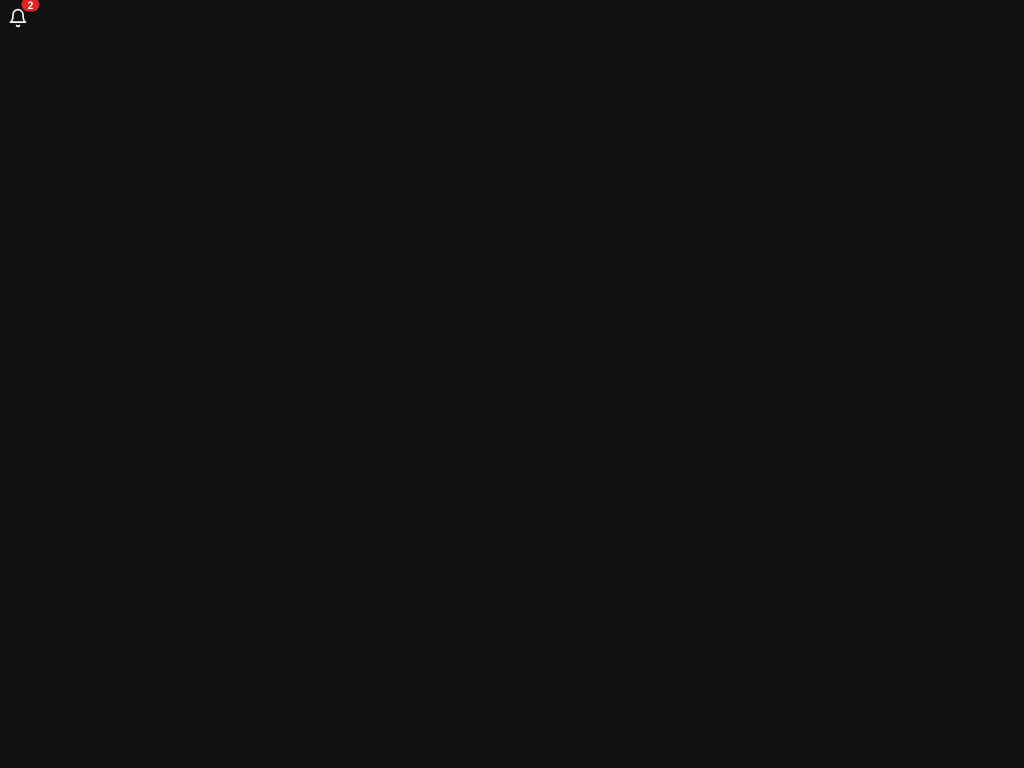
Test: sininho do coach › aviso de check-in abre o check-in (painel completo) e marca como lido; dúvida segue com Responder
Later steps or results of the test are not shown.
Click the button. click: (18, 18)
box: x1=0 y1=0 x2=36 y2=36
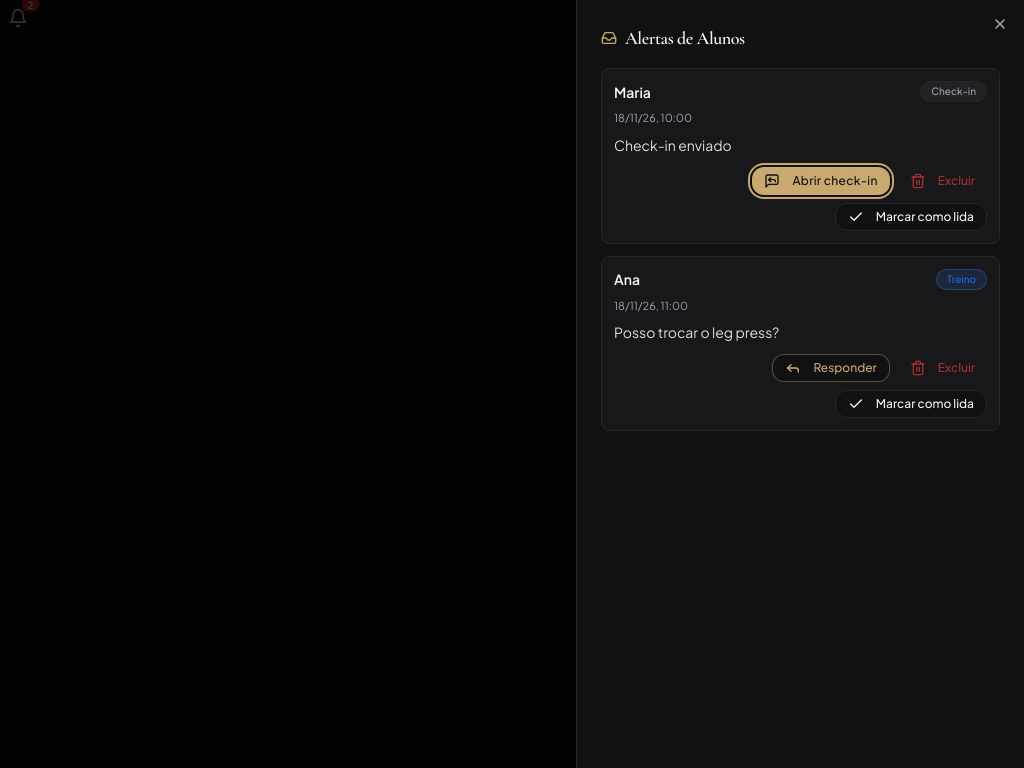
Check: the text "Check-in enviado" is shown, box x1=614 y1=136 x2=732 y2=154
Check: the button with test id "notification-open-target" reads "Abrir check-in", box x1=752 y1=166 x2=890 y2=194
Check: the number of buttons "Responder" is 1, box x1=772 y1=354 x2=890 y2=382
